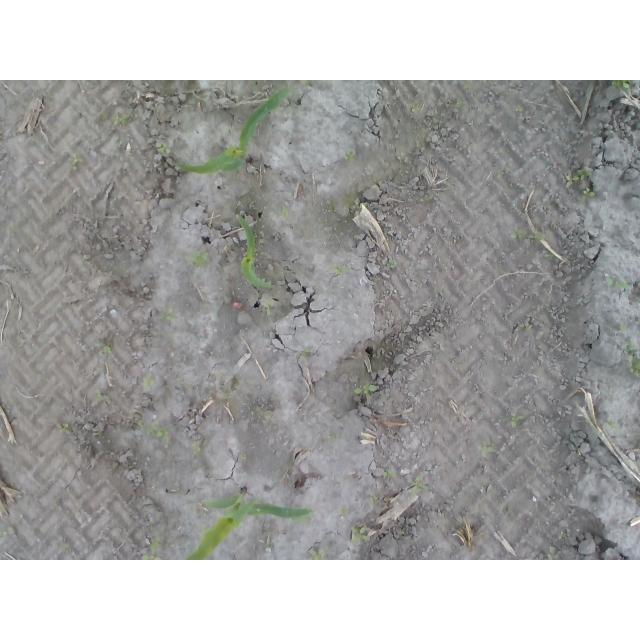Maize: (173, 88, 292, 176), (184, 485, 316, 560), (234, 215, 274, 290)
Weeds: (141, 536, 163, 561), (408, 476, 433, 498), (350, 526, 370, 544), (606, 278, 631, 291), (309, 546, 331, 560), (354, 382, 379, 394), (575, 167, 594, 182), (611, 81, 636, 92), (147, 425, 165, 440), (628, 356, 640, 378), (192, 250, 208, 266), (511, 227, 526, 242), (112, 114, 129, 127), (510, 415, 527, 428), (565, 174, 580, 187), (160, 310, 176, 322), (581, 188, 596, 200), (144, 374, 155, 390), (66, 152, 79, 164), (384, 466, 396, 479), (480, 445, 499, 453), (98, 344, 113, 353), (58, 423, 71, 433), (335, 265, 349, 274), (410, 104, 422, 113), (353, 197, 362, 208), (264, 303, 272, 315), (369, 496, 379, 505), (387, 260, 397, 269), (158, 144, 168, 152), (515, 104, 524, 112), (344, 152, 352, 161), (96, 391, 103, 401), (239, 454, 247, 461)
